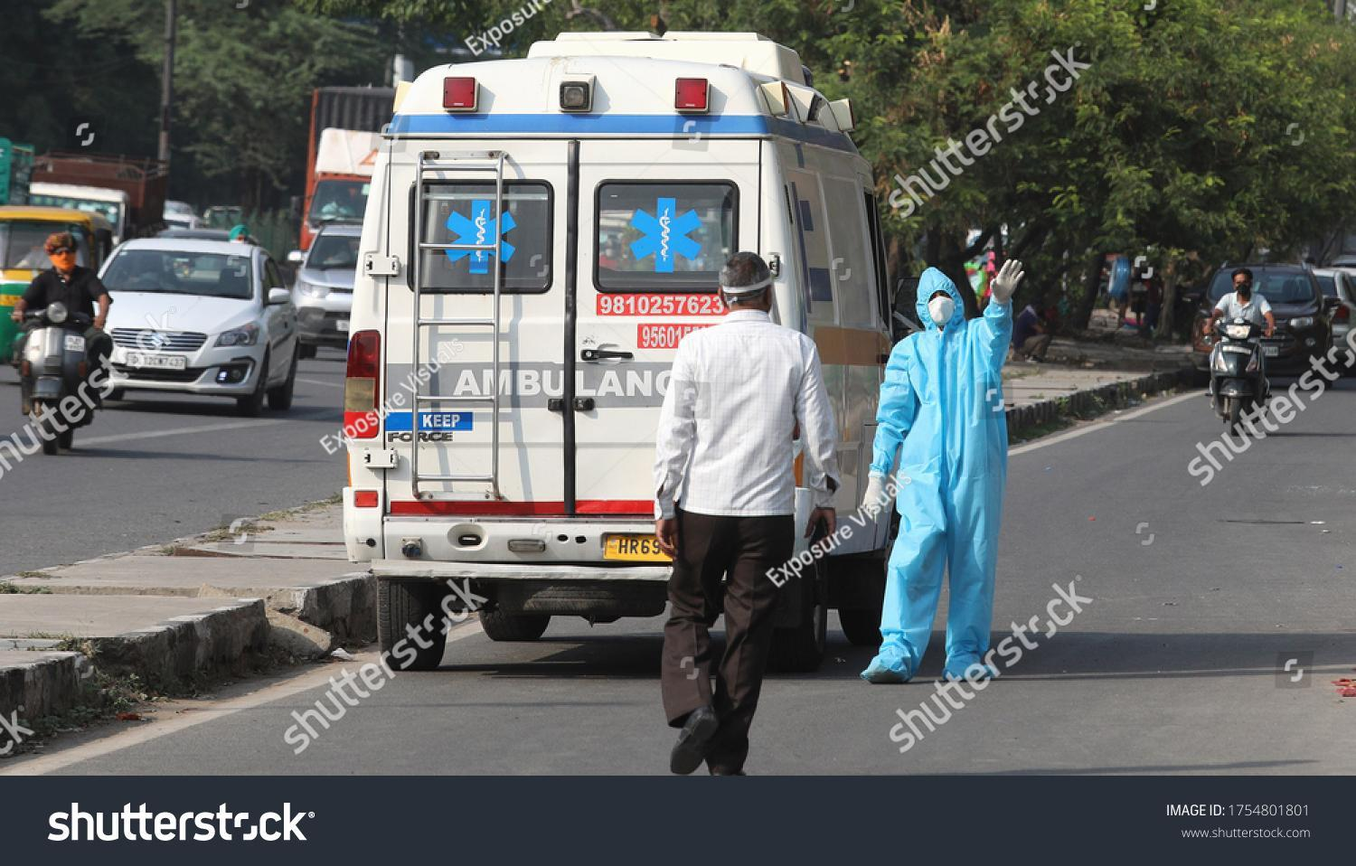Ambulance: (448, 360, 671, 401), (439, 188, 528, 285), (622, 193, 715, 285)
